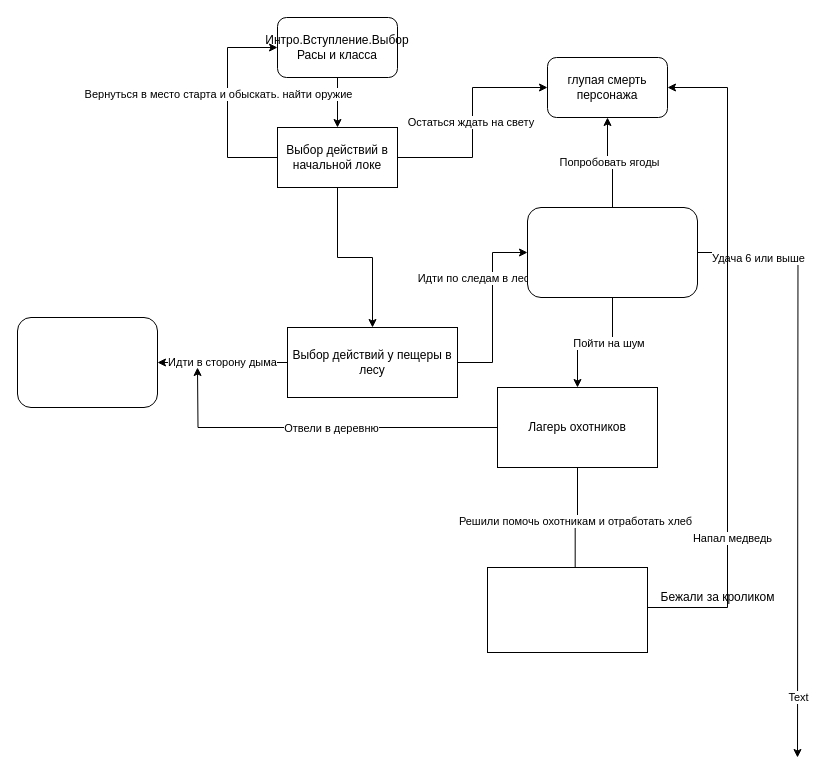
Image size: 826x783. Some labels were removed from this diagram. Each missing label, with the centre of its shape:
Деревня Нашли людей: point 87,362
Лесная поляна Охота на кроликов: point 567,609
Лесная чаща Заблудились в лесу: point 612,252
